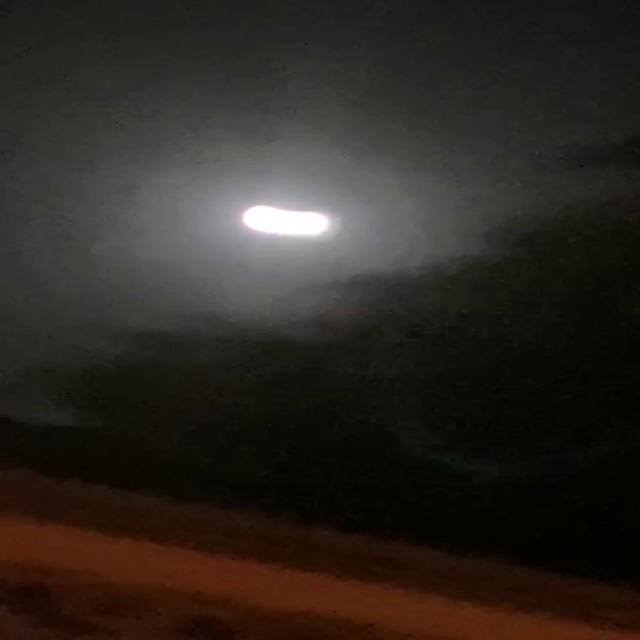moon: (315, 224, 398, 268)
